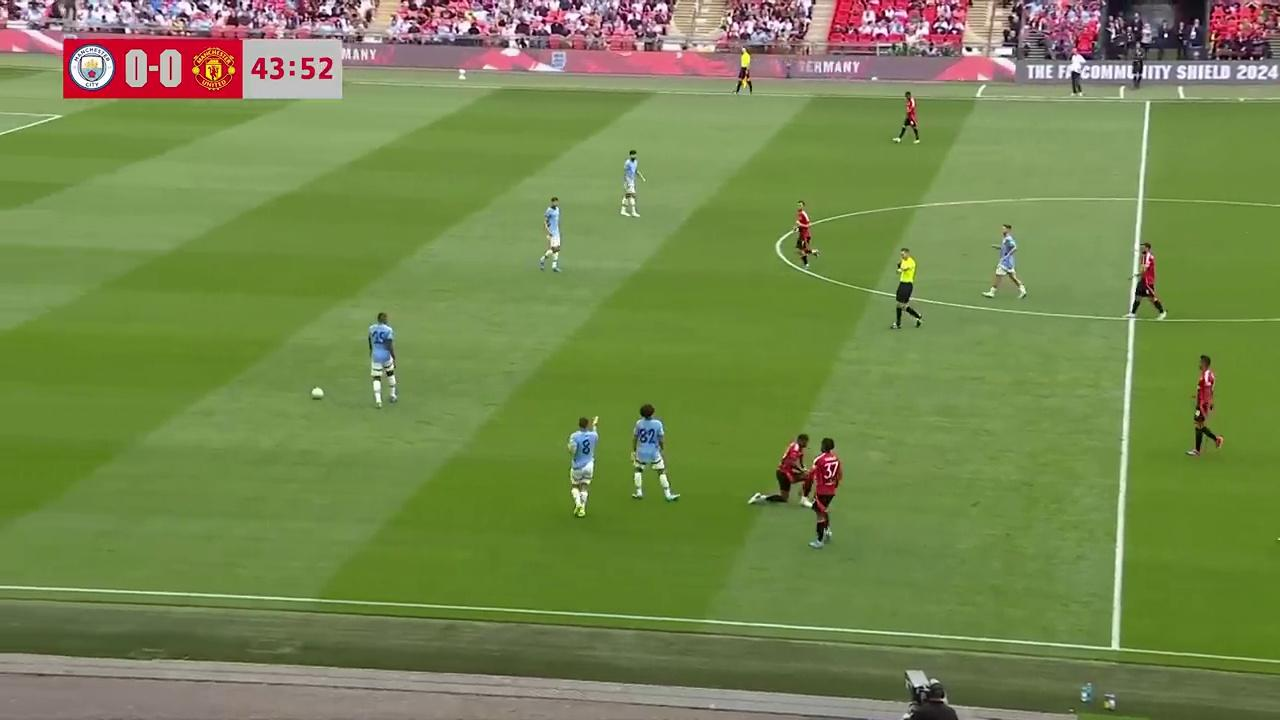ball: (310, 384, 325, 400)
player: (630, 403, 680, 500), (753, 433, 809, 508), (806, 437, 842, 547), (1188, 354, 1223, 456), (984, 224, 1027, 299), (567, 415, 598, 517), (1126, 241, 1166, 320), (366, 311, 398, 408), (539, 197, 562, 272), (619, 149, 644, 217), (794, 200, 818, 267), (893, 92, 920, 143)
referee: (891, 248, 922, 330), (733, 46, 754, 95)
